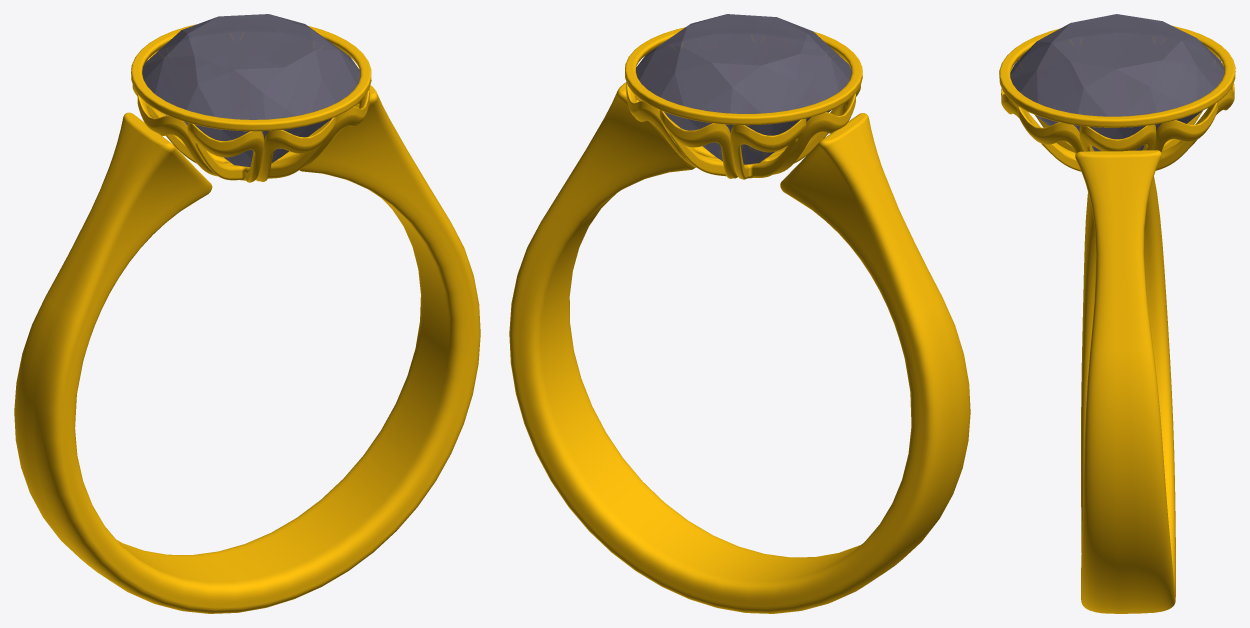
Rendered from ring.glb.
3 renders of one model, left to right at view 1: azimuth 30°, elevation 25°; view 2: azimuth 150°, elevation 25°; view 3: azimuth 270°, elevation 25°, orthographic.
Parts seen in each view (by area): view 1: Object_3, Object_5, Object_4; view 2: Object_3, Object_5, Object_4; view 3: Object_3, Object_5.
Part boxes in pixels (x1,y1,x2,y2): Object_3: (14,24,480,612); Object_5: (142,14,360,166); Object_4: (41,91,471,613); Object_3: (509,27,970,613); Object_5: (636,14,851,164); Object_4: (617,89,970,520); Object_3: (999,25,1235,613); Object_5: (1010,14,1224,151).
Bounding box in the file's own units: 0.2601 × 0.3179 × 0.1236.
